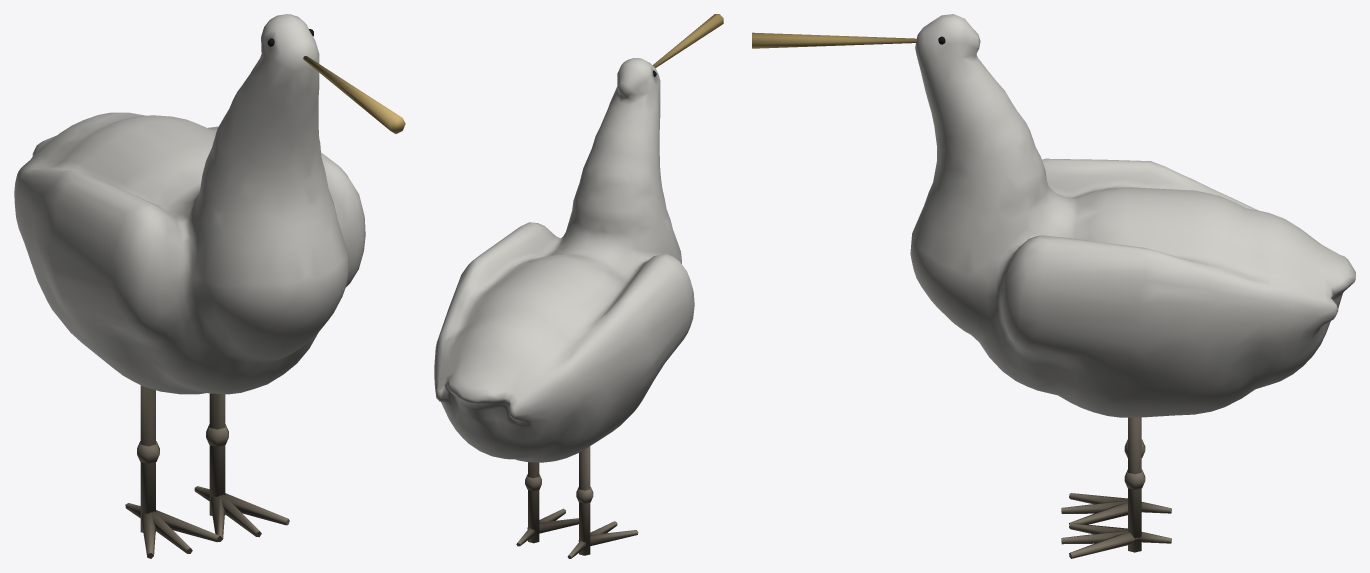
File: pelikan.glb
The picture shows the model from 3 angles, left to right: view 1: azimuth 30°, elevation 25°; view 2: azimuth 150°, elevation 25°; view 3: azimuth 270°, elevation 25°; orthographic projection. The views are drawn at different scales.
Parts seen in each view (by area): view 1: lack; view 2: lack; view 3: lack.
Part boxes in pixels (x1,y1,x2,y2): lack: (14,14,405,558); lack: (434,14,723,558); lack: (752,14,1355,558).
Size of the model in its own units: 0.5017 by 1.08 by 1.15.
